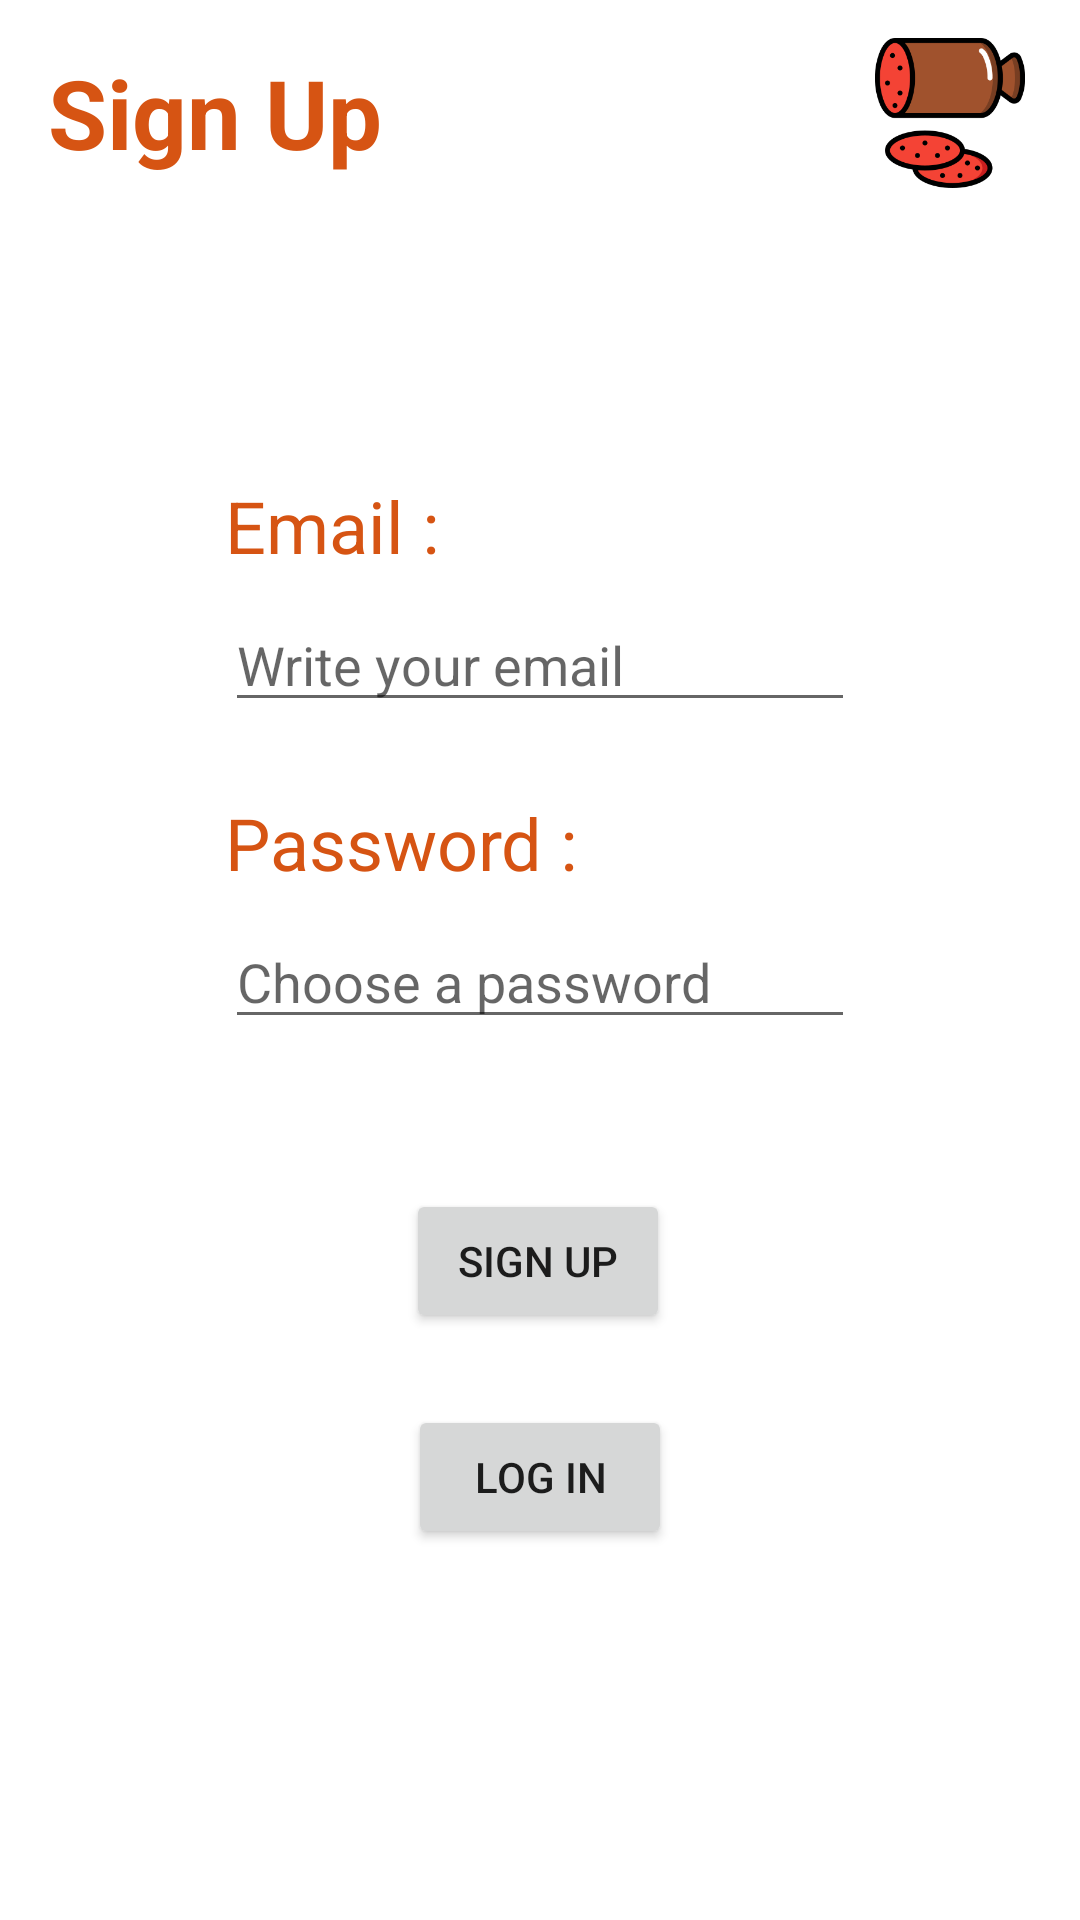

Screen size 1080*1920. Icon name, then its center in pixels as [x,y]:
pepperoni: [950,113]
